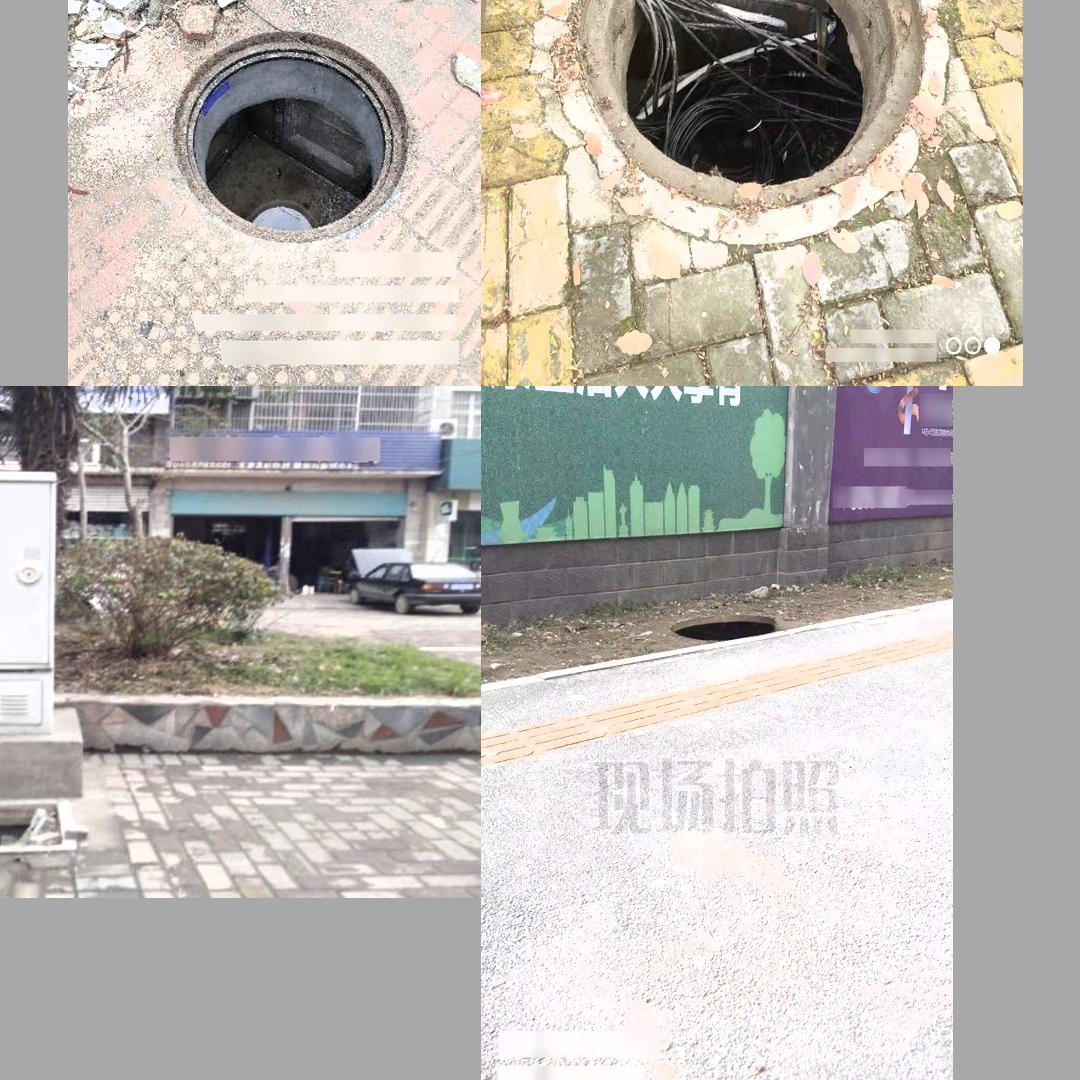lose: (556, 0, 949, 245), (174, 30, 406, 242), (0, 794, 76, 864), (669, 612, 779, 645)
